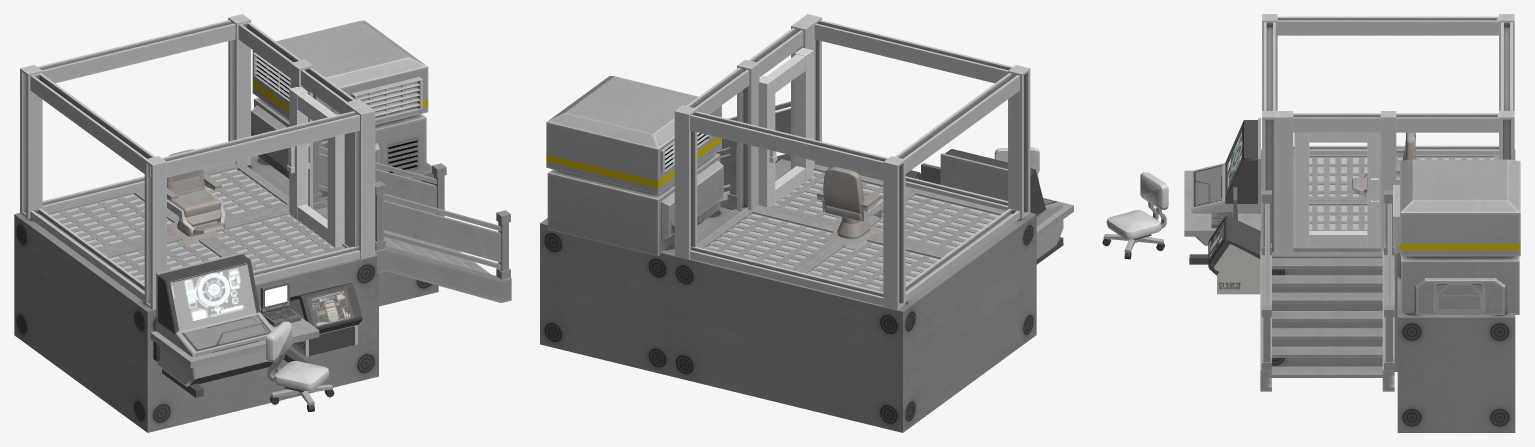
File: Pfb_ObservationDeck_Temp__17.fbx
3 views of the same model, side by side, from view 1: azimuth 30°, elevation 25°; view 2: azimuth 150°, elevation 25°; view 3: azimuth 270°, elevation 25° (orthographic). The views are drawn at different scales.
Visible parts, largest first — view 1: Mat_SteelFrame_01, MAT_ScalableMesh_01, Mat_Ventilation_Soda, Mat_Stairs_Soda, Mat_Network_01_2, MAT_Soda_Instruments_Grey 6, Mat_TS_Metall 2, Mat_Tile_Color_01 7, MAT_Soda_Instruments_Grey 7, Mat_Tile_Color_07 2, Mat_Chair_01, Mat_Table_01 (+2 smaller); view 2: MAT_ScalableMesh_01, Mat_SteelFrame_01, Mat_Ventilation_Soda, Mat_Network_01_2, Mat_TS_Metall 2, Mat_Tile_Color_01 7, Mat_Tile_Color_07 2, Mat_CementMold_1, MAT_Soda_Instruments_Grey 6, Mat_Stairs_Soda, Mat_Table_01; view 3: MAT_ScalableMesh_01, Mat_SteelFrame_01, Mat_Ventilation_Soda, Mat_Stairs_Soda, Mat_TS_Metall 2, Mat_Network_01_2, MAT_Soda_Instruments_Grey 6, MAT_Soda_Instruments_Grey 7, Mat_Chair_01, Mat_Table_01, Mat_Tile_Color_01 7, Mat_Tile_Color_07 2 (+1 smaller).
Boxes of the visible parts, x1,y1,x2,y2 form: Mat_SteelFrame_01: [20, 14, 375, 309]; MAT_ScalableMesh_01: [14, 155, 438, 432]; Mat_Ventilation_Soda: [251, 20, 428, 197]; Mat_Stairs_Soda: [313, 140, 511, 302]; Mat_Network_01_2: [37, 163, 349, 291]; MAT_Soda_Instruments_Grey 6: [157, 254, 273, 386]; Mat_TS_Metall 2: [289, 86, 344, 247]; Mat_Tile_Color_01 7: [50, 169, 334, 282]; MAT_Soda_Instruments_Grey 7: [289, 283, 362, 356]; Mat_Tile_Color_07 2: [167, 149, 223, 245]; Mat_Chair_01: [266, 321, 334, 411]; Mat_Table_01: [150, 305, 319, 397]; MAT_ScalableMesh_01: [540, 168, 1036, 432]; Mat_SteelFrame_01: [674, 14, 1030, 310]; Mat_Ventilation_Soda: [546, 76, 723, 256]; Mat_Network_01_2: [697, 164, 1012, 292]; Mat_TS_Metall 2: [758, 47, 813, 207]; Mat_Tile_Color_01 7: [708, 170, 999, 288]; Mat_Tile_Color_07 2: [817, 167, 883, 249]; Mat_CementMold_1: [940, 153, 1007, 200]; MAT_Soda_Instruments_Grey 6: [945, 149, 1063, 259]; Mat_Stairs_Soda: [716, 101, 790, 209]; Mat_Table_01: [1036, 198, 1073, 264]; MAT_ScalableMesh_01: [1261, 149, 1515, 432]; Mat_SteelFrame_01: [1262, 14, 1514, 255]; Mat_Ventilation_Soda: [1393, 159, 1520, 314]; Mat_Stairs_Soda: [1260, 190, 1394, 391]; Mat_TS_Metall 2: [1294, 132, 1380, 246]; Mat_Network_01_2: [1293, 154, 1498, 251]; MAT_Soda_Instruments_Grey 6: [1191, 120, 1257, 245]; MAT_Soda_Instruments_Grey 7: [1208, 216, 1260, 294]; Mat_Chair_01: [1102, 172, 1168, 259]; Mat_Table_01: [1184, 170, 1260, 264]; Mat_Tile_Color_01 7: [1309, 157, 1493, 229]; Mat_Tile_Color_07 2: [1353, 132, 1415, 191].
Bounding box in the file's own units: 6.29 × 4.39 × 6.58.
Materials: 16 (16 with a texture image).
